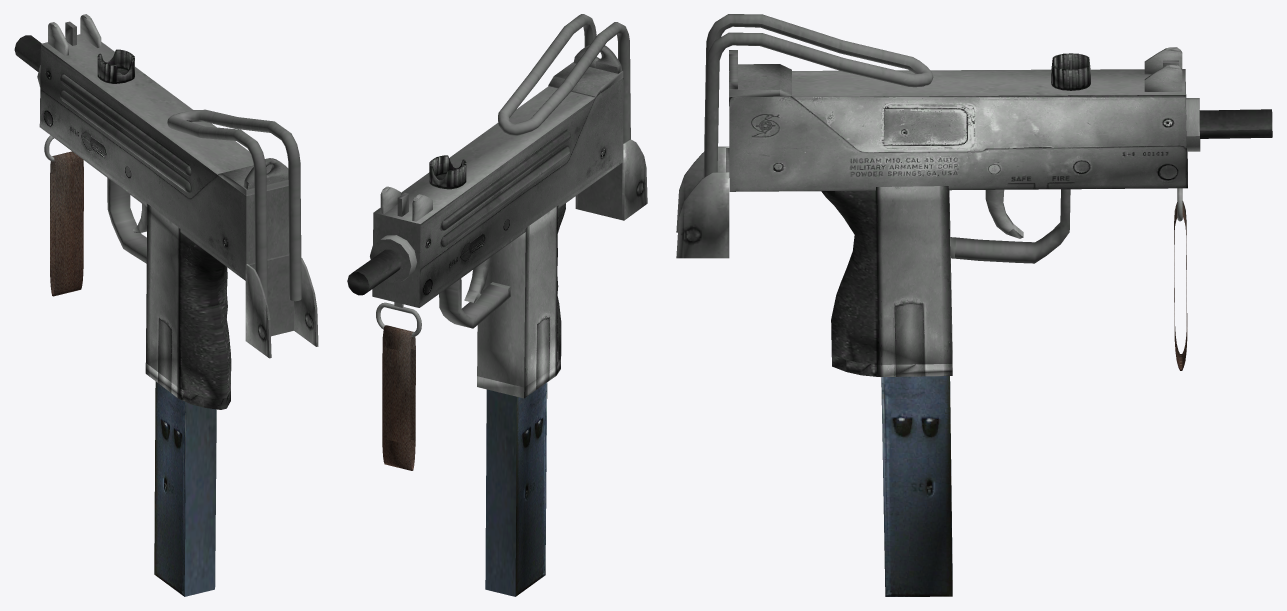
File: mac10_world.fbx
The picture shows the model from 3 angles, left to right: view 1: azimuth 30°, elevation 25°; view 2: azimuth 150°, elevation 25°; view 3: azimuth 270°, elevation 25°; orthographic projection. The views are drawn at different scales.
Parts seen in each view (by area): view 1: mac10_body, mac10_pistolgrip, mac10_clip, mac10_stock, mac10_grip, mac10_stockholder, mac10_detail, mac10_stockholder2, mac10_triggerguard, mac10_bolt, mac10_frontsight, mac10_rearsightblock (+2 smaller); view 2: mac10_body, mac10_clip, mac10_pistolgrip, mac10_stock, mac10_grip, mac10_detail, mac10_triggerguard, mac10_stockholder, mac10_stockholder2, mac10_barrel, mac10_rearsightblock, mac10_barrelholder (+5 smaller); view 3: mac10_body, mac10_pistolgrip, mac10_clip, mac10_stock, mac10_stockholder, mac10_triggerguard, mac10_barrel, mac10_rearsightblock, mac10_frontsight, mac10_bolt, mac10_trigger.
Boxes of the visible parts, <box> form: mac10_body: <box>39,34,289,280</box>; mac10_pistolgrip: <box>145,204,231,409</box>; mac10_clip: <box>154,381,216,596</box>; mac10_stock: <box>167,109,301,302</box>; mac10_grip: <box>50,151,83,296</box>; mac10_stockholder: <box>245,258,318,358</box>; mac10_detail: <box>60,74,191,192</box>; mac10_stockholder2: <box>248,254,293,336</box>; mac10_triggerguard: <box>107,178,146,263</box>; mac10_bolt: <box>97,49,134,83</box>; mac10_frontsight: <box>48,14,101,55</box>; mac10_rearsightblock: <box>218,164,288,195</box>; mac10_body: <box>372,78,623,307</box>; mac10_clip: <box>485,382,547,596</box>; mac10_pistolgrip: <box>477,203,565,398</box>; mac10_stock: <box>498,14,630,143</box>; mac10_grip: <box>382,325,415,470</box>; mac10_detail: <box>441,130,570,247</box>; mac10_triggerguard: <box>439,278,510,328</box>; mac10_stockholder: <box>575,139,647,220</box>; mac10_stockholder2: <box>578,163,621,219</box>; mac10_barrel: <box>347,249,401,295</box>; mac10_rearsightblock: <box>548,62,623,97</box>; mac10_barrelholder: <box>370,235,416,282</box>; mac10_body: <box>729,69,1187,191</box>; mac10_pistolgrip: <box>821,186,952,376</box>; mac10_clip: <box>881,376,952,596</box>; mac10_stock: <box>703,14,933,177</box>; mac10_stockholder: <box>676,146,729,258</box>; mac10_triggerguard: <box>950,189,1070,263</box>; mac10_barrel: <box>1199,109,1272,138</box>; mac10_rearsightblock: <box>729,64,791,96</box>; mac10_frontsight: <box>1144,47,1182,91</box>; mac10_bolt: <box>1051,53,1090,90</box>; mac10_trigger: <box>985,189,1023,238</box>.
Bounding box in the file's own units: 2.07 × 19.41 × 18.57.
